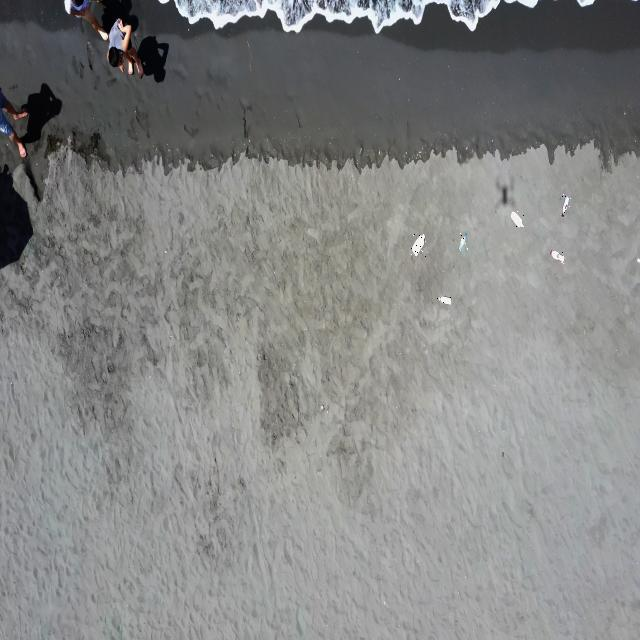Garbage: (411, 233, 424, 255), (510, 211, 523, 227), (560, 193, 569, 216), (459, 232, 467, 252), (551, 250, 563, 263), (436, 296, 451, 303), (636, 258, 639, 261)
